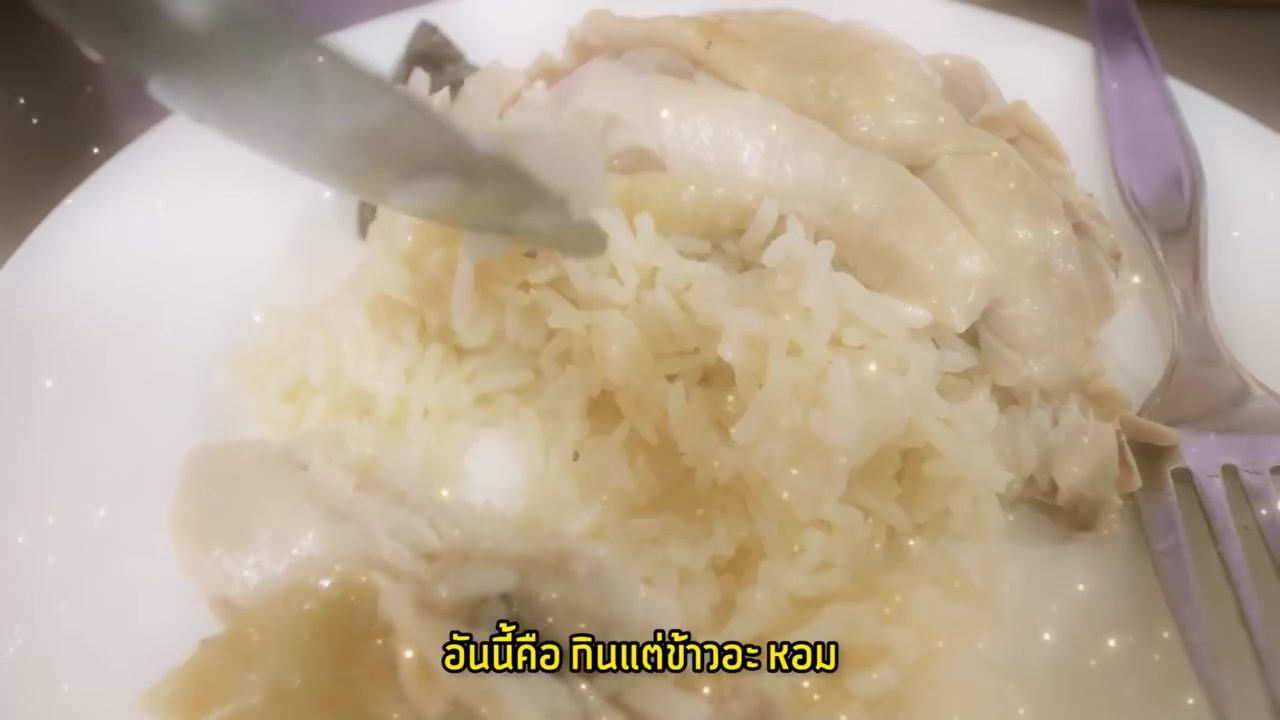text-label: (437, 616, 839, 676)
